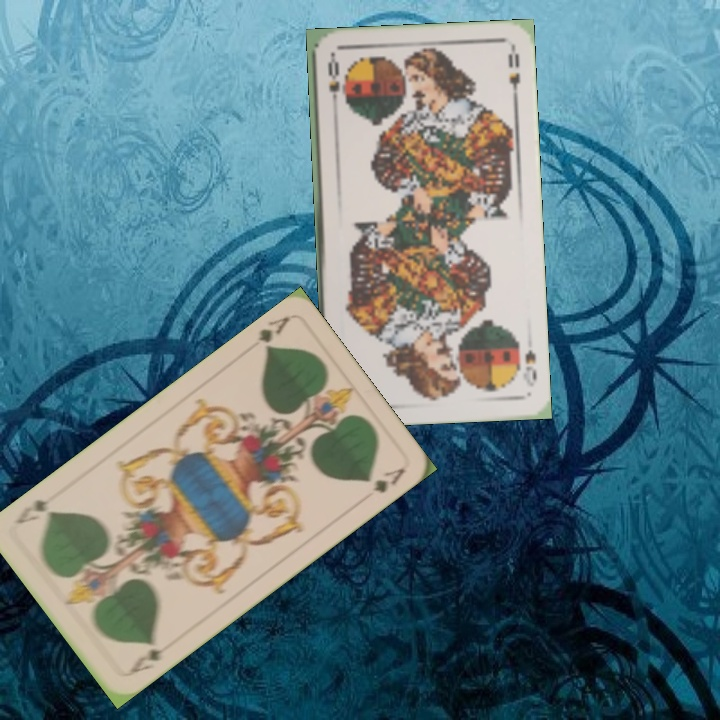GA: (122, 638, 174, 679), (254, 312, 292, 354)
SO: (323, 53, 342, 112), (518, 345, 540, 389)
